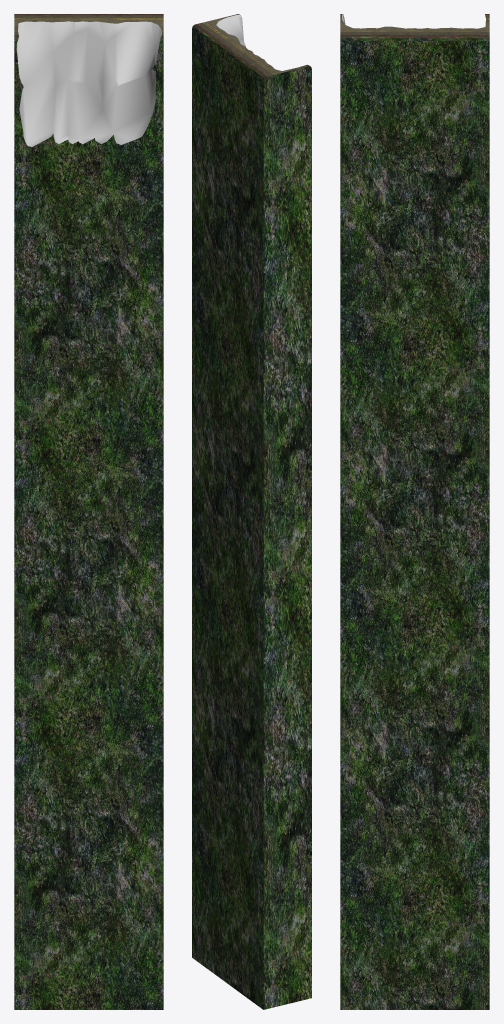
The model's file is Broken Road.fbx.
The picture shows the model from 3 angles, left to right: view 1: azimuth 90°, elevation 25°; view 2: azimuth 210°, elevation 25°; view 3: azimuth 270°, elevation 25°; orthographic projection. The views are drawn at different scales.
Parts seen in each view (by area): view 1: Broken Road; view 2: Broken Road; view 3: Broken Road.
Part boxes in pixels (x1,y1,x2,y2): Broken Road: [14, 14, 163, 1009]; Broken Road: [192, 14, 311, 1009]; Broken Road: [340, 14, 489, 1009].
Size of the model in its own units: 410 by 7538 by 1047.
